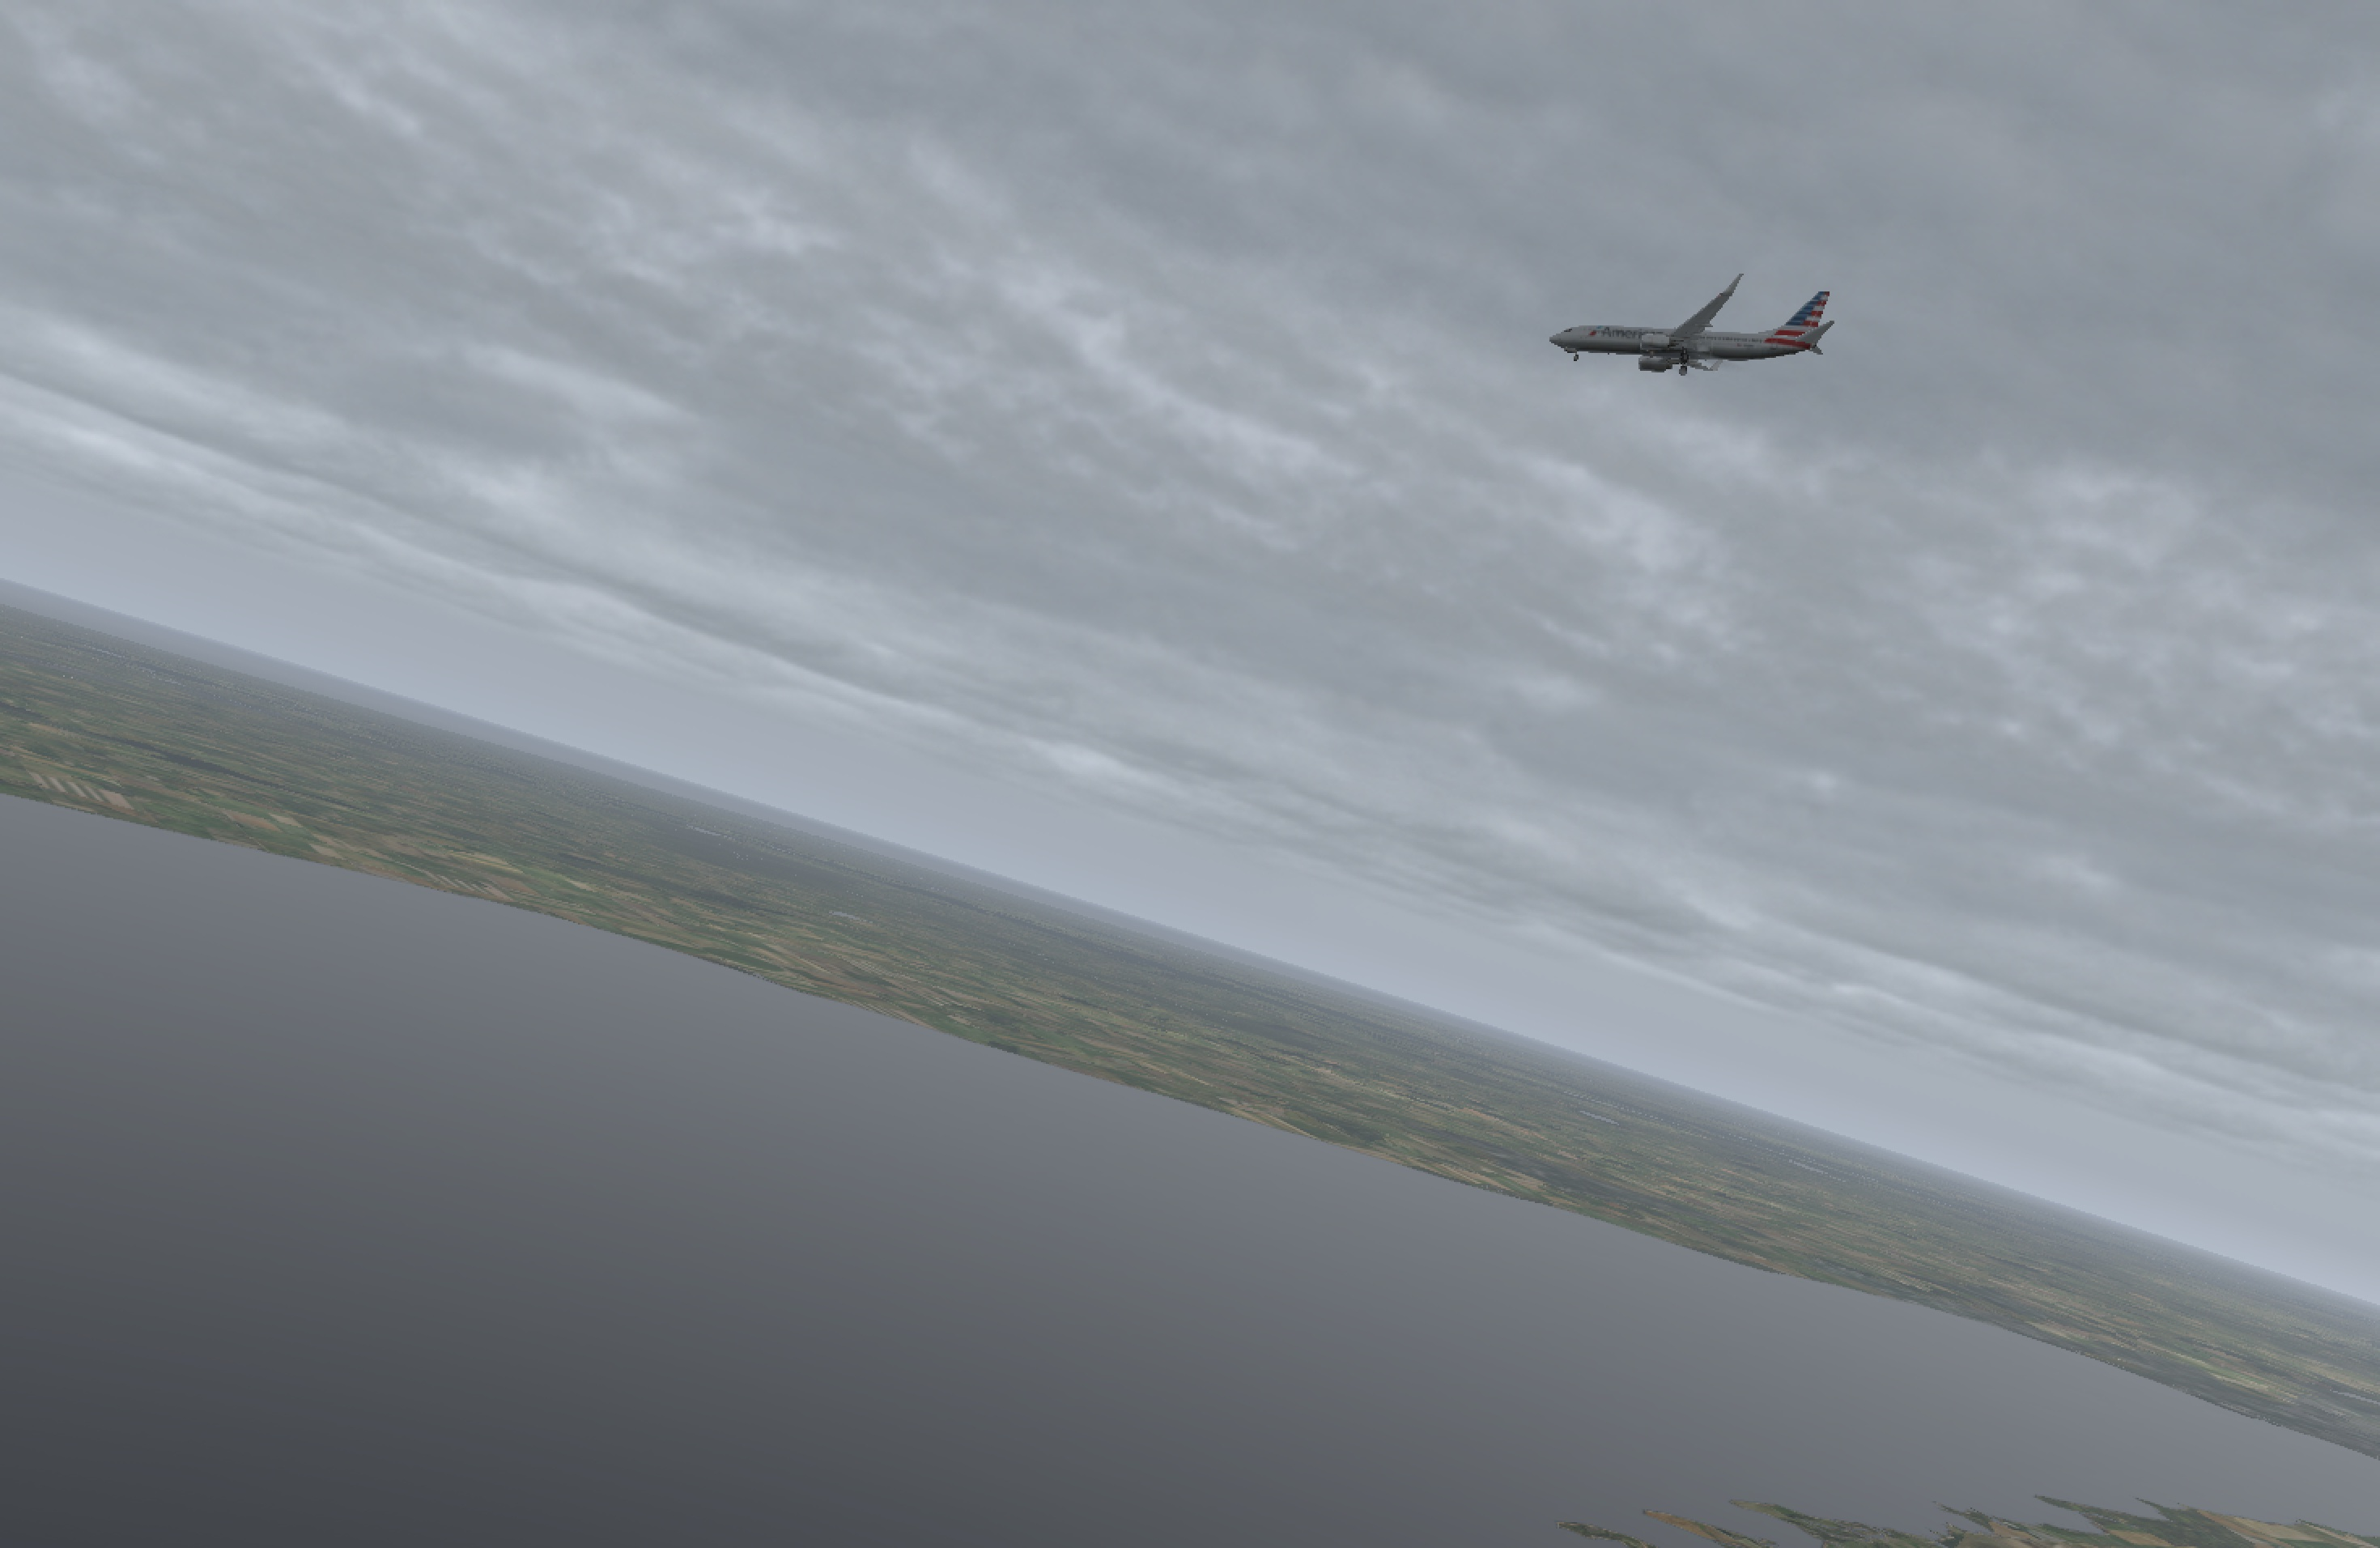aircraft: (1547, 298, 1804, 396)
